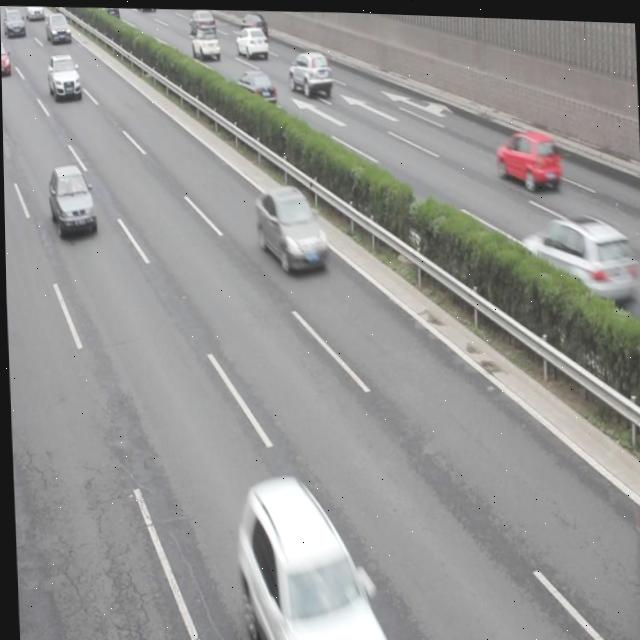car: (231, 477, 380, 640), (517, 207, 634, 300), (253, 178, 326, 271), (494, 121, 559, 189), (46, 164, 95, 236), (287, 48, 333, 96), (46, 53, 80, 99), (235, 67, 275, 105), (234, 25, 267, 57), (189, 26, 220, 58), (45, 12, 71, 42), (240, 10, 267, 38), (188, 7, 214, 34), (1, 42, 11, 76)
